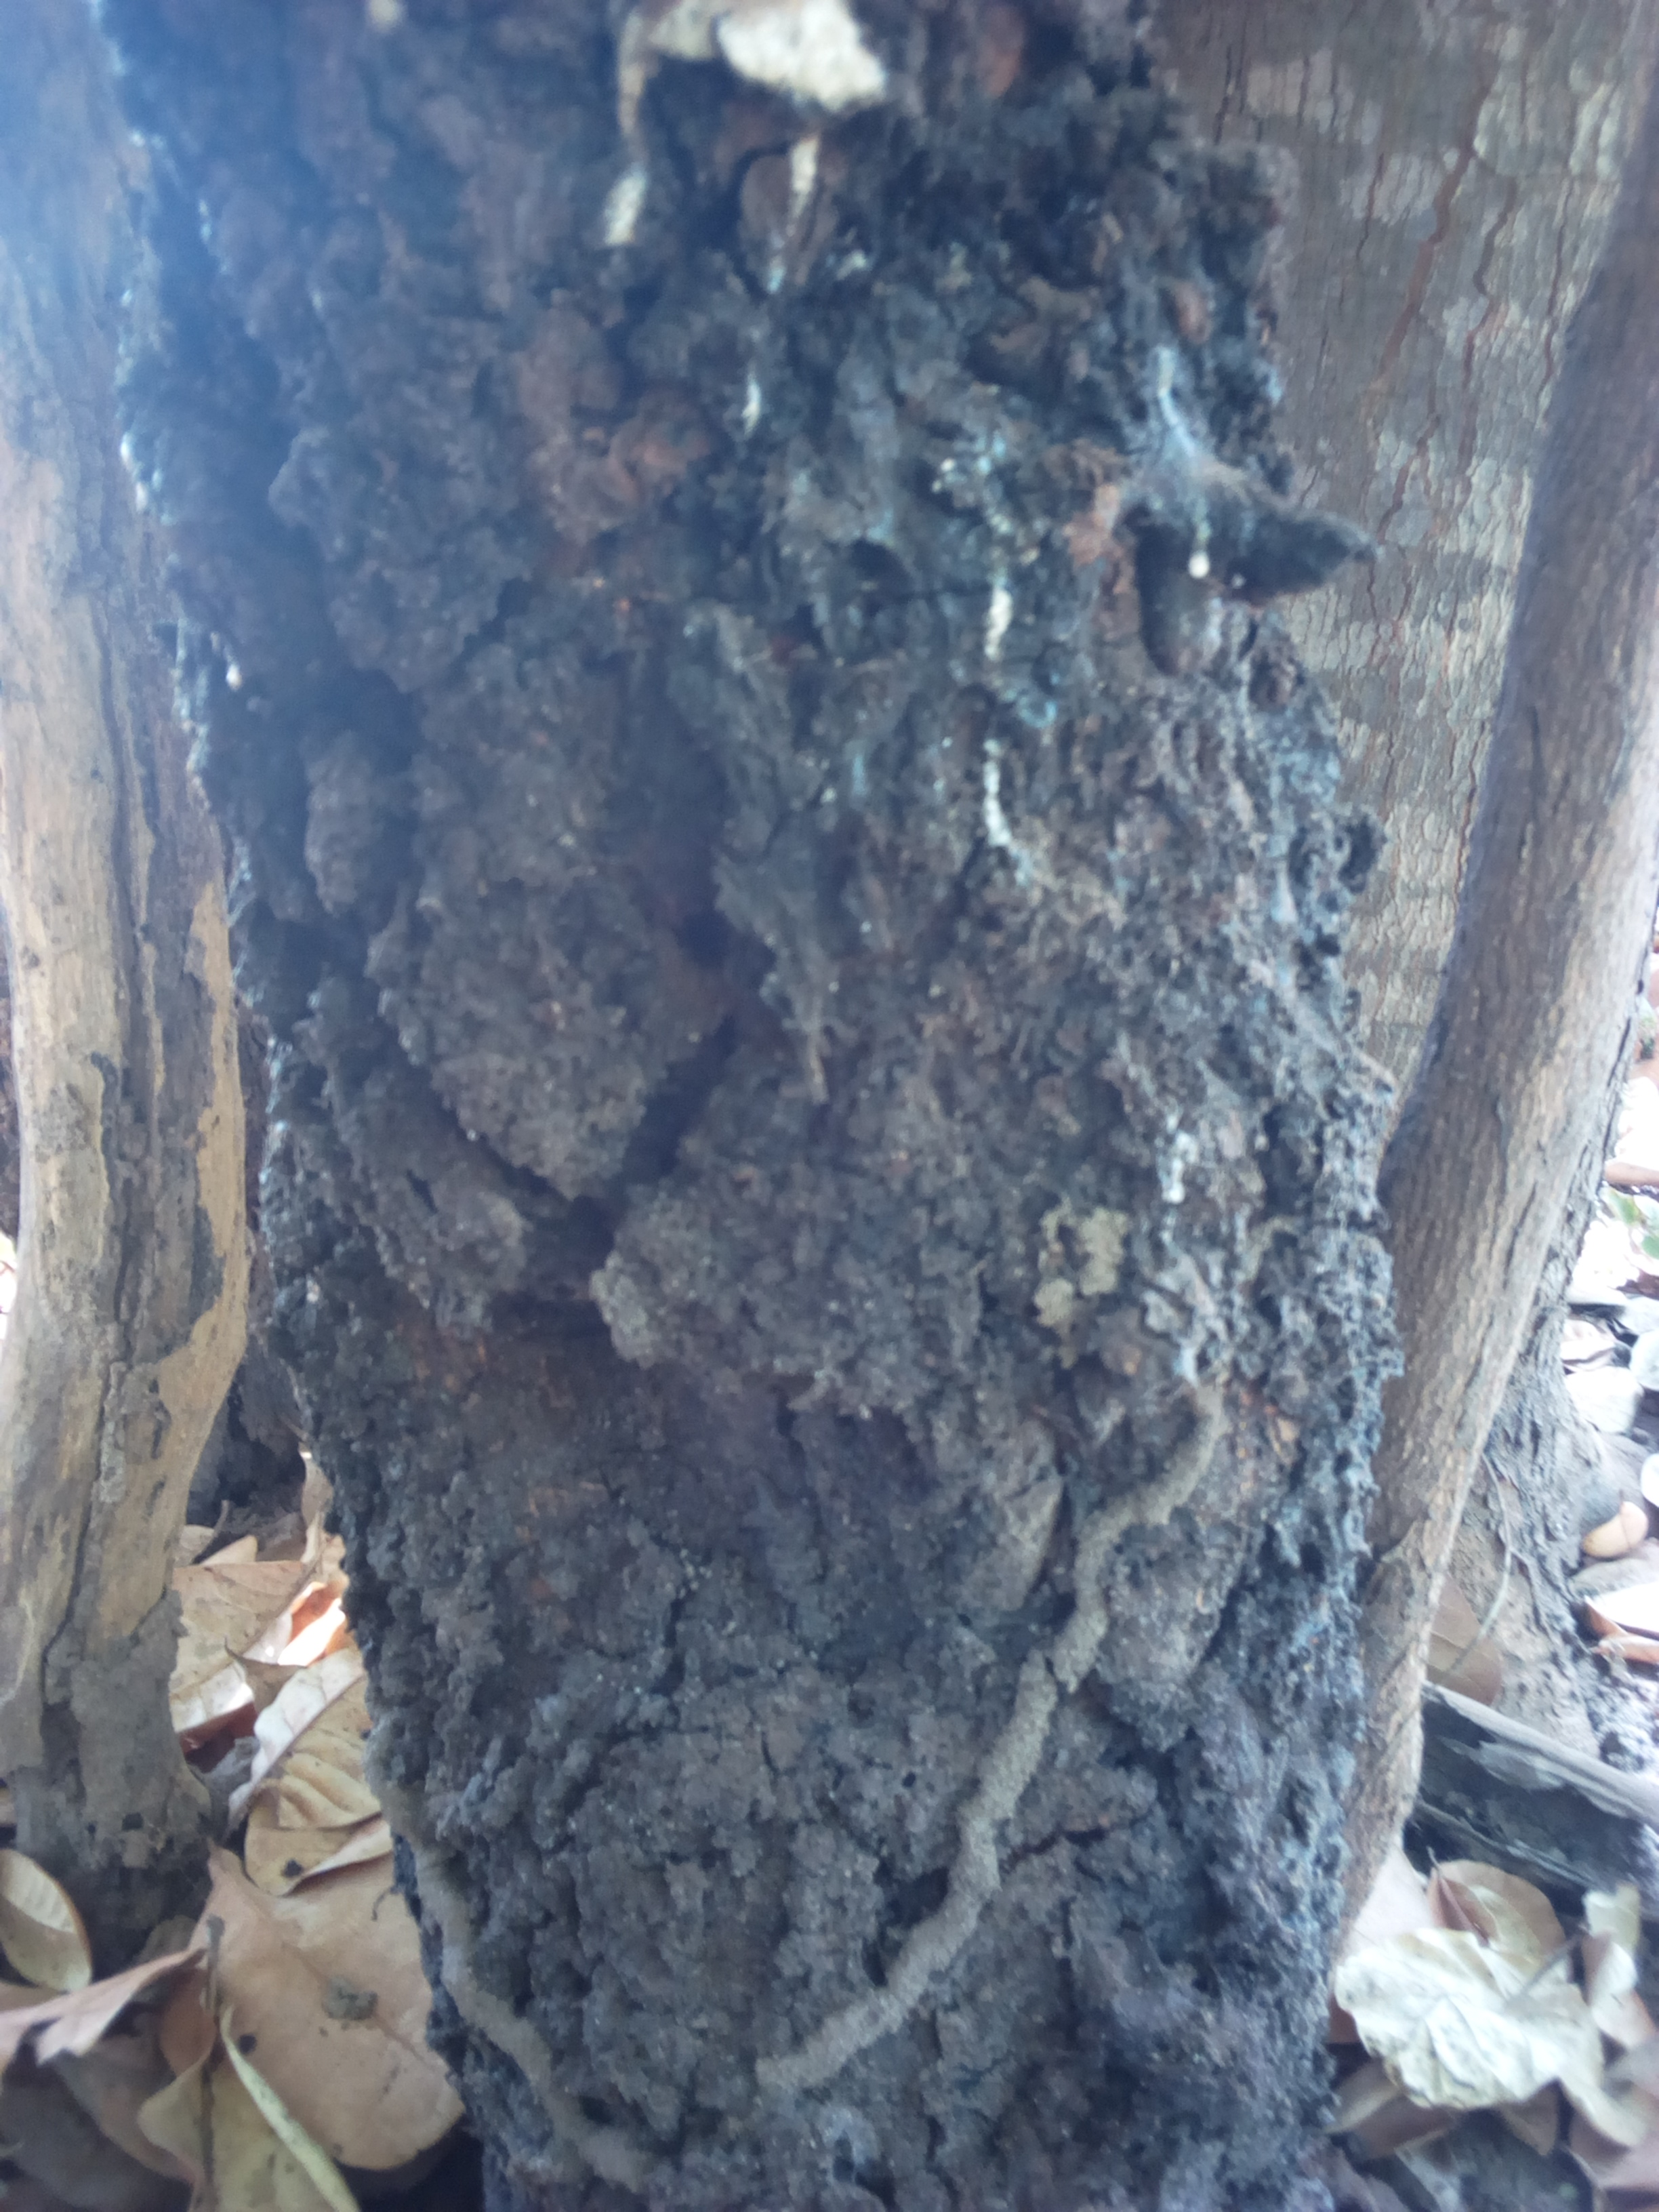Termites: (301, 63, 1358, 2212)
